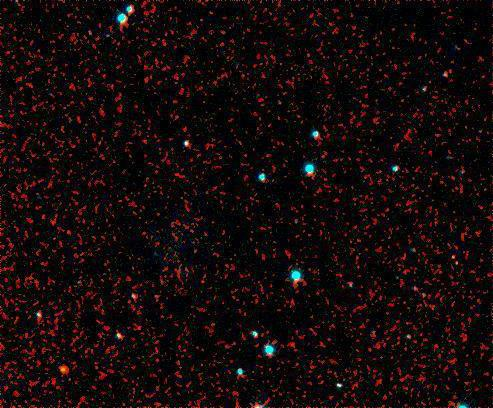star: (48, 354, 78, 384)
